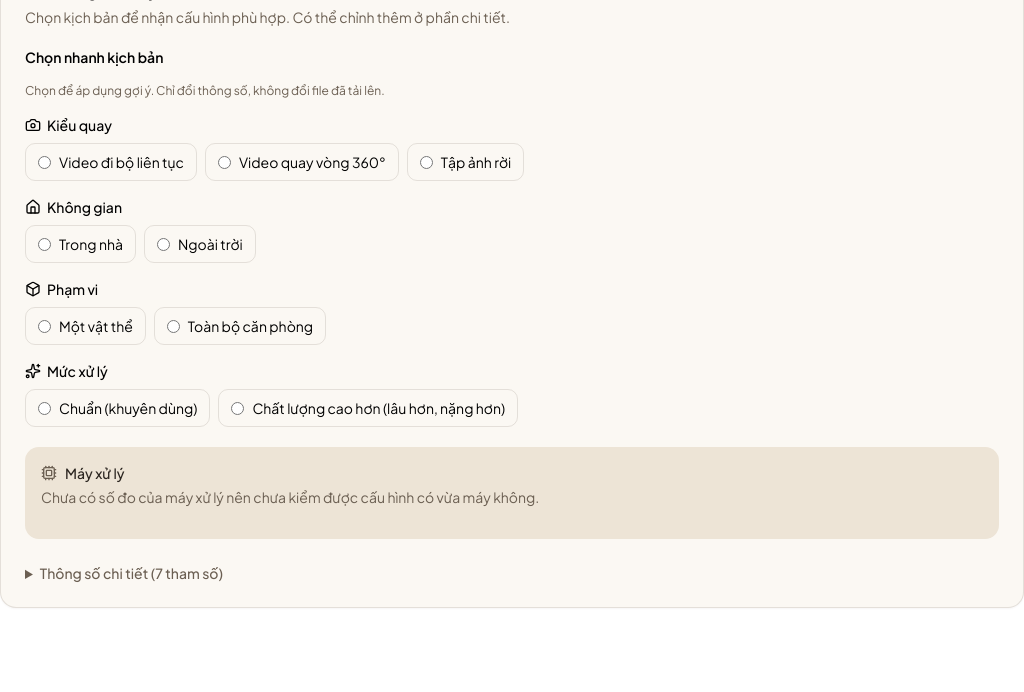
Test case: scenario wizard › applies environment and capture choices through the API and shows all advanced groups
Click the radio button labelled "Ngoài trời" at [164, 244], box [157,238,170,250]
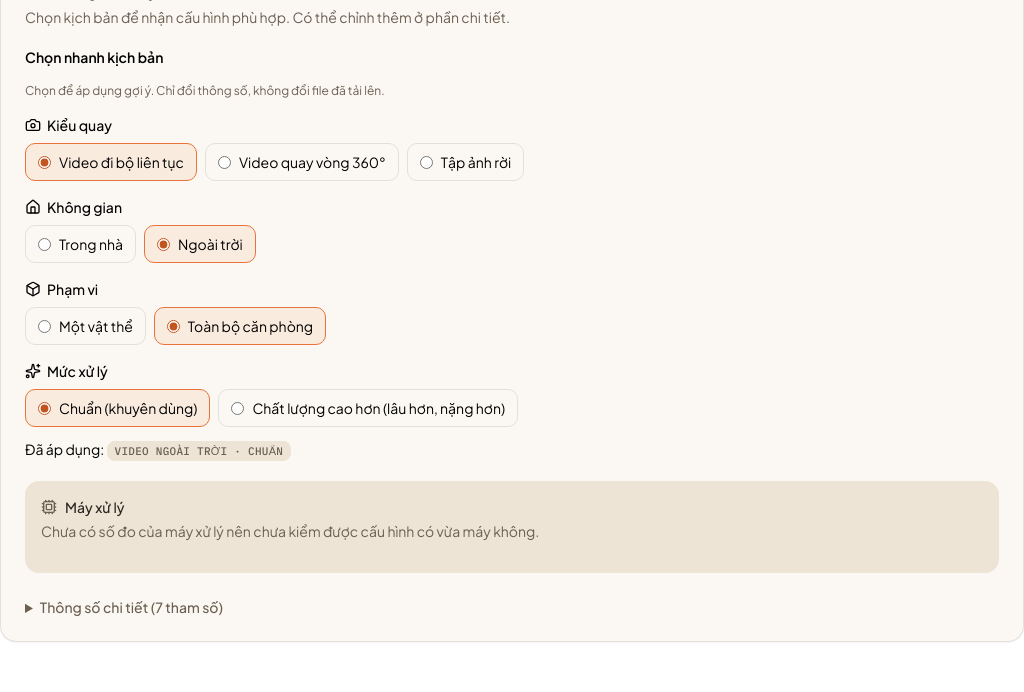
Now the text "Video ngoài trời · Chuẩn" is shown, box [106,441,291,461]
Click the radio button labelled "Video quay vòng 360°" at [224, 162], box [218,156,231,168]
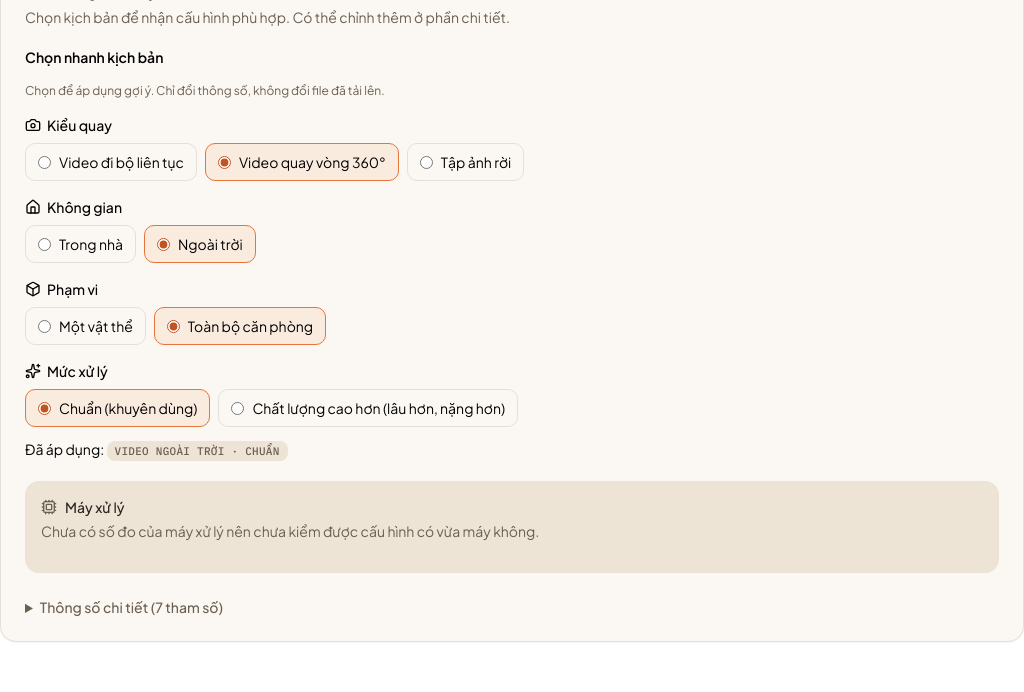
Click the heading "Thông số chi tiết (7 tham số)" at [131, 607], box [40,598,223,616]
(page scrolled)
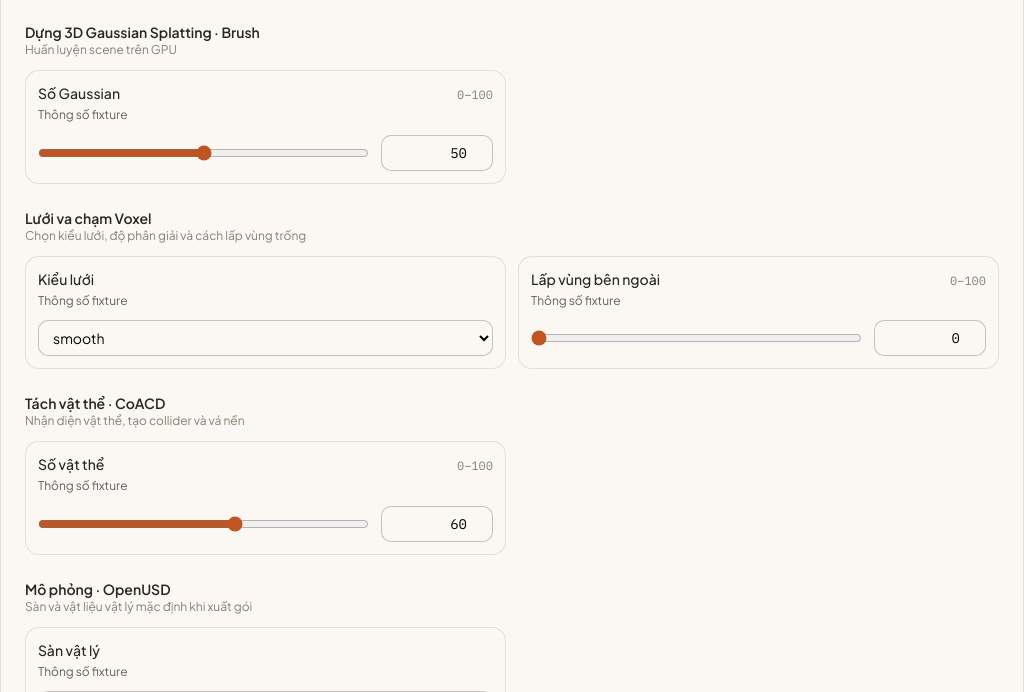
Select "faces" in the dropdown labelled "Kiểu lưới" at [266, 338], box [38,320,493,356]
(page scrolled)
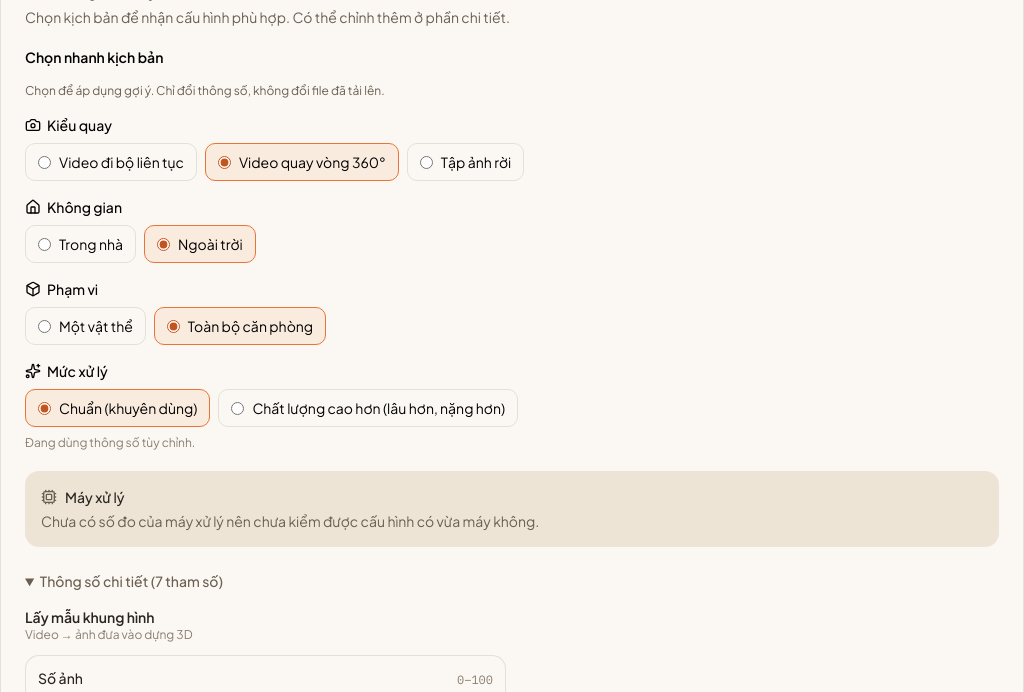
Click the radio button labelled "Video quay vòng 360°" at [224, 162], box [218,156,231,168]
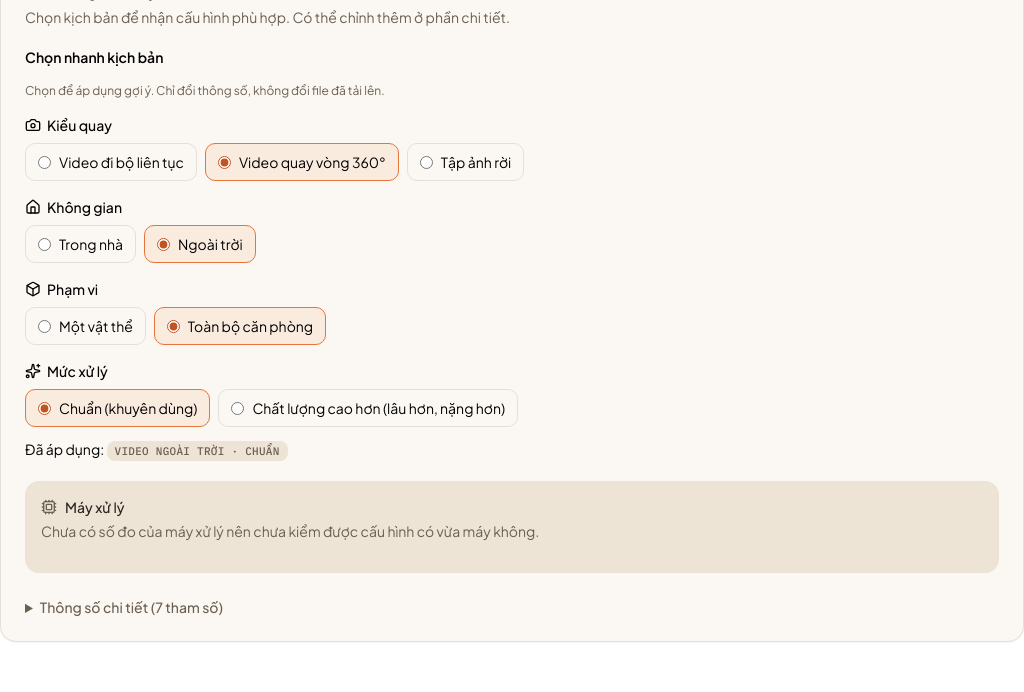
Now the text "Video ngoài trời · Chuẩn" is shown, box [106,441,288,461]
